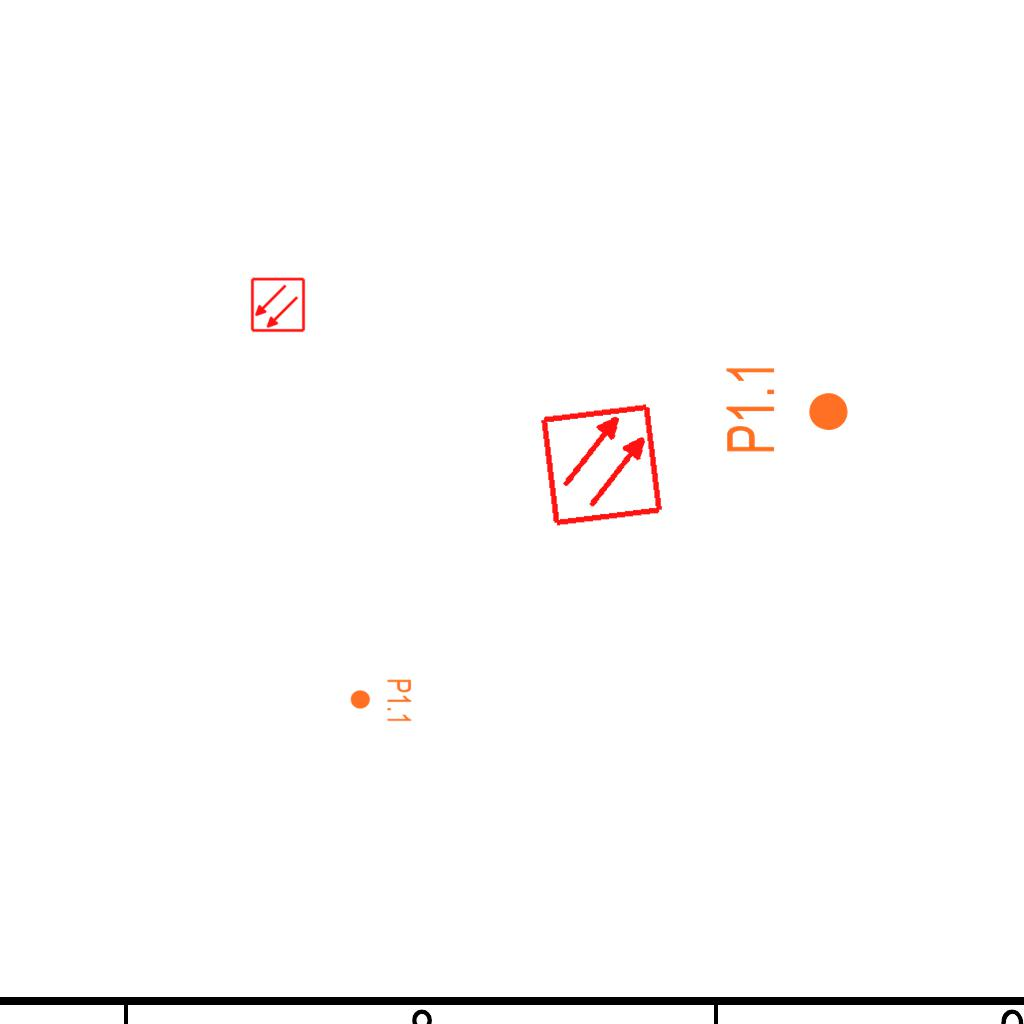Downlight_LED_Einbauleuchten_Flur: (723, 362, 851, 455), (349, 678, 413, 724)
RMO_Rauchmelder_optischer: (538, 401, 665, 528), (250, 277, 306, 333)
